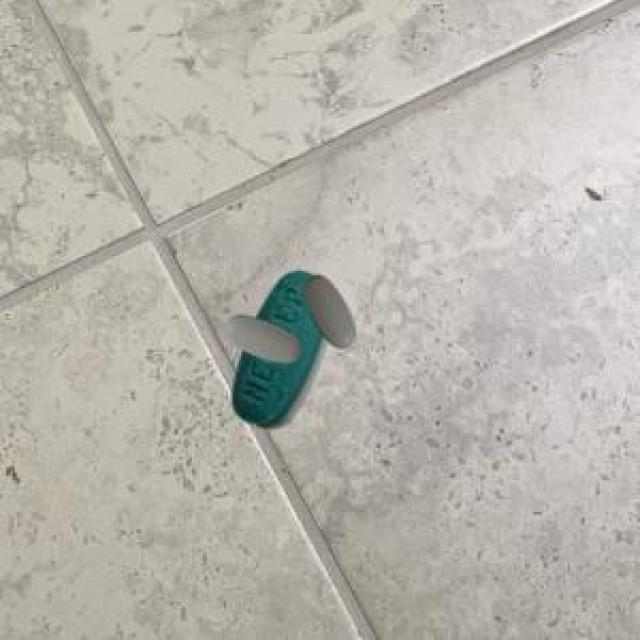Neozep: (208, 258, 366, 440)
